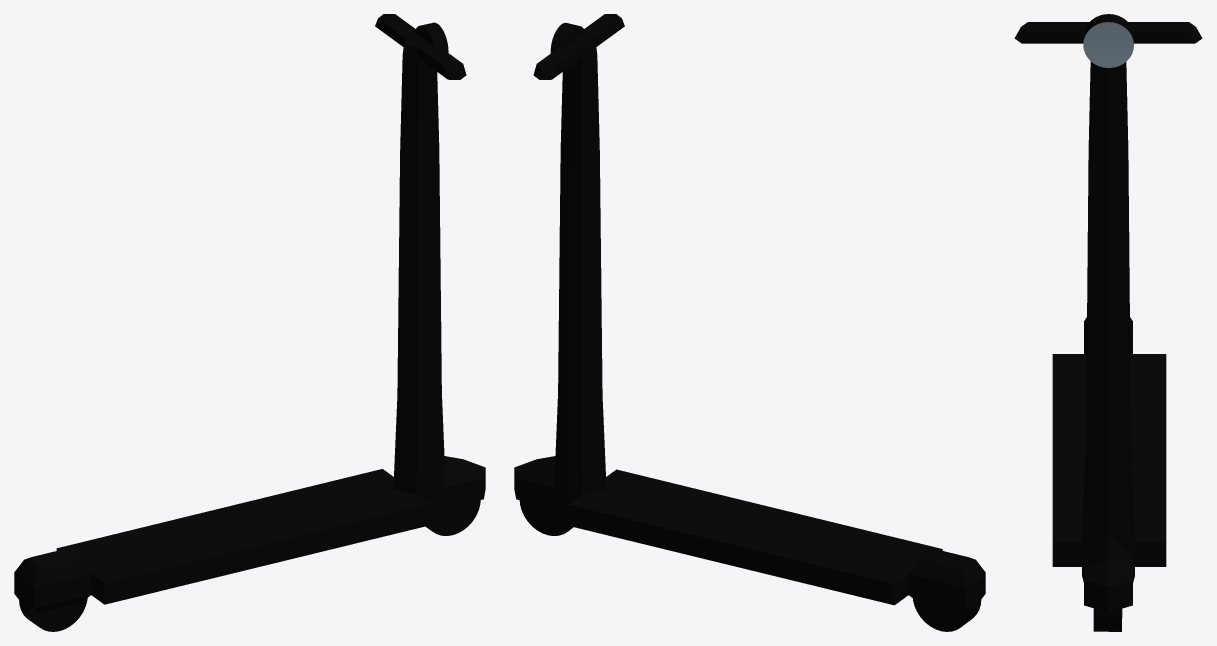
File: PATINETE.fbx
3 views of the same model, side by side, from view 1: azimuth 30°, elevation 25°; view 2: azimuth 150°, elevation 25°; view 3: azimuth 270°, elevation 25° (orthographic). The views are drawn at different scales.
Parts seen in each view (by area): view 1: PATINETE; view 2: PATINETE; view 3: PATINETE.
Part boxes in pixels (x1=…): PATINETE: x1=14, y1=14, x2=485, y2=631; PATINETE: x1=514, y1=14, x2=985, y2=631; PATINETE: x1=1014, y1=14, x2=1202, y2=631.
Bounding box in the file's own units: 285 × 298 × 84.49.
